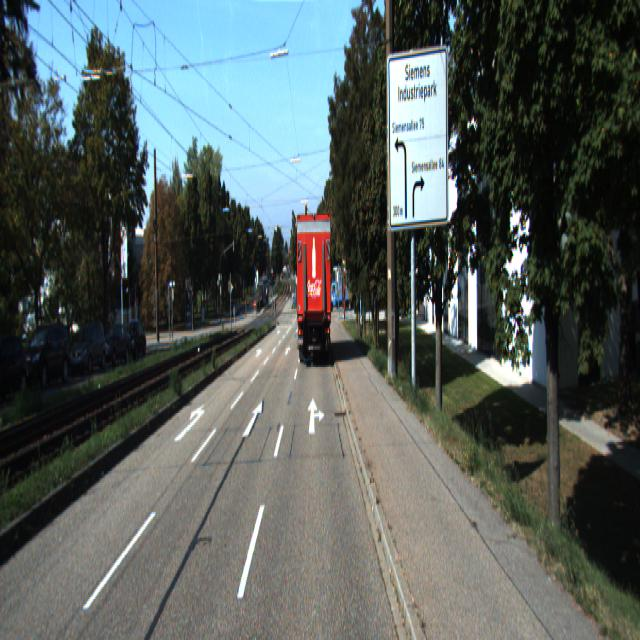Car: (294, 212, 333, 370), (18, 322, 72, 386), (0, 333, 33, 403), (70, 321, 108, 379), (99, 324, 131, 367), (119, 320, 147, 361)
